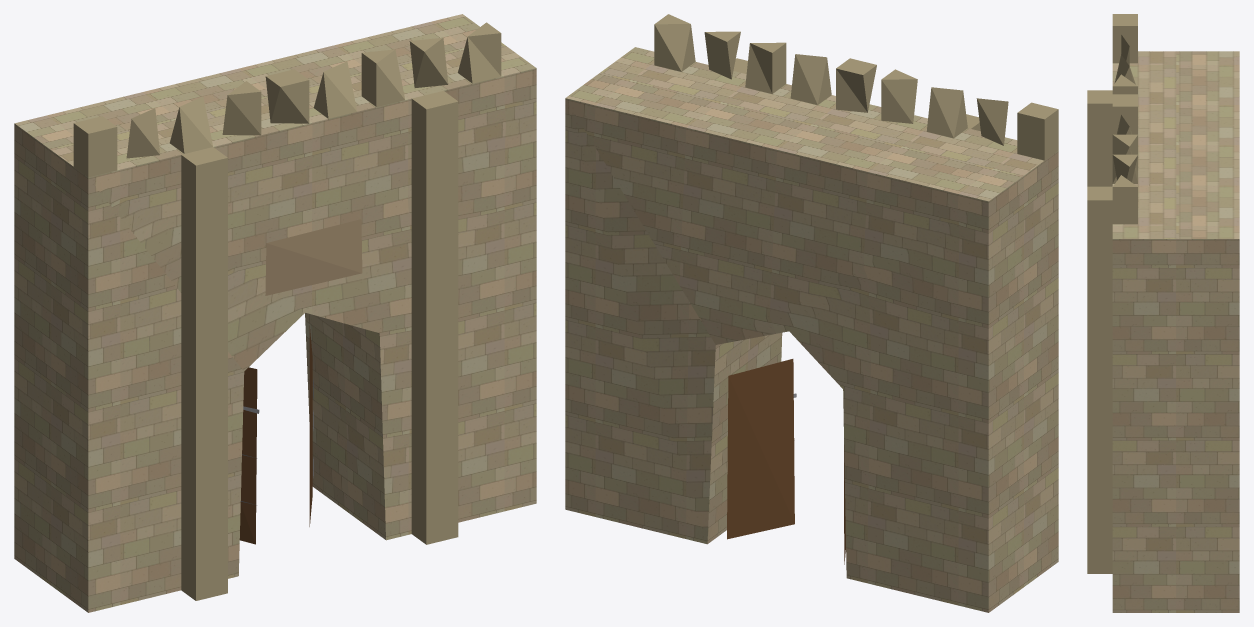
File: derbent_city_gate_lod1.glb
3 views of the same model, side by side, from view 1: azimuth 30°, elevation 25°; view 2: azimuth 150°, elevation 25°; view 3: azimuth 270°, elevation 25° (orthographic). The views are drawn at different scales.
Visible parts, largest first — view 1: m; view 2: m; view 3: m.
Boxes of the visible parts, box(x1,y1,x2,y2) form: m: box(14, 14, 536, 612); m: box(565, 14, 1058, 612); m: box(1087, 14, 1239, 612).
Size of the model in its own units: 14 by 14.3 by 4.8.
4 materials, 3 textured.
